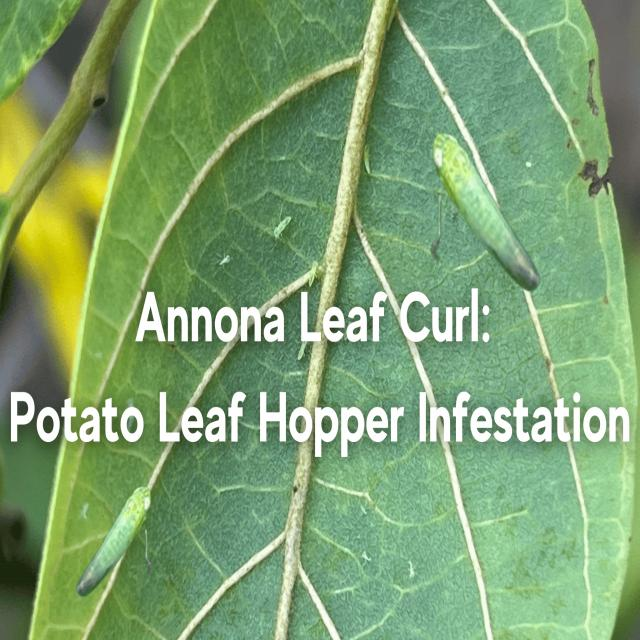Yechan: (430, 122, 553, 300), (77, 484, 157, 600)
